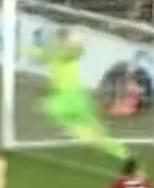goalkeeper: (23, 12, 154, 178)
